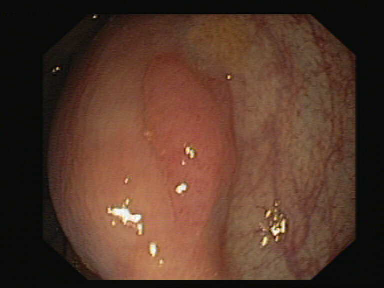polyp: (118, 44, 281, 212)
